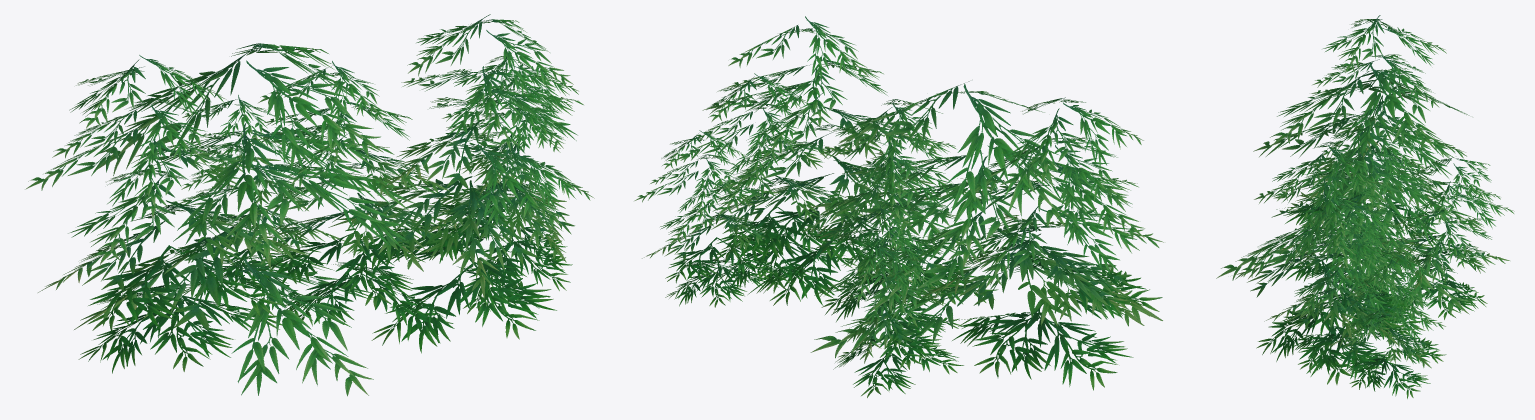
Rendered from Area_06_40.fbx.
3 views of the same model, side by side, from view 1: azimuth 30°, elevation 25°; view 2: azimuth 150°, elevation 25°; view 3: azimuth 270°, elevation 25° (orthographic). The views are drawn at different scales.
Visible parts, largest first — view 1: Area_06_40; view 2: Area_06_40; view 3: Area_06_40.
Part boxes in pixels (left/top/right/bottom): Area_06_40: left=25, top=14, right=594, bottom=396; Area_06_40: left=634, top=16, right=1163, bottom=397; Area_06_40: left=1216, top=15, right=1514, bottom=398.
Bounding box in the file's own units: 2252 × 1240 × 1477.
